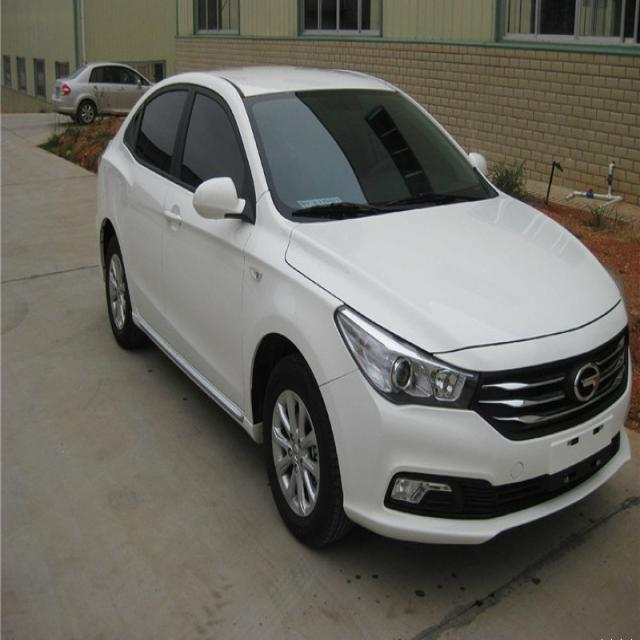door: (129, 90, 195, 321)
front_bumper: (313, 299, 633, 546)
front_glass: (243, 87, 500, 218)
front_left_side_mirror: (467, 150, 491, 183)
front_right_side_door: (162, 82, 256, 436)
front_right_side_light: (332, 298, 480, 412)
front_right_side_mirror: (191, 174, 251, 226)
wheel: (265, 358, 350, 548), (104, 242, 157, 351)
